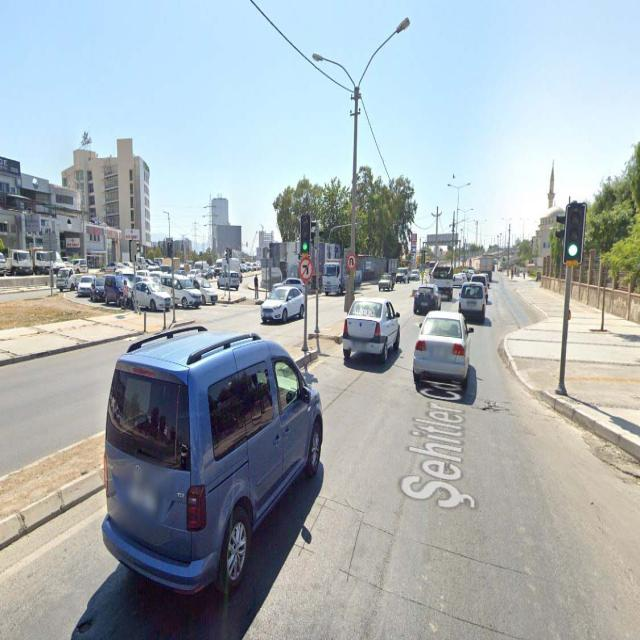soladonulmez: (300, 258, 312, 278)
yesil: (568, 206, 582, 266), (300, 216, 312, 253)
